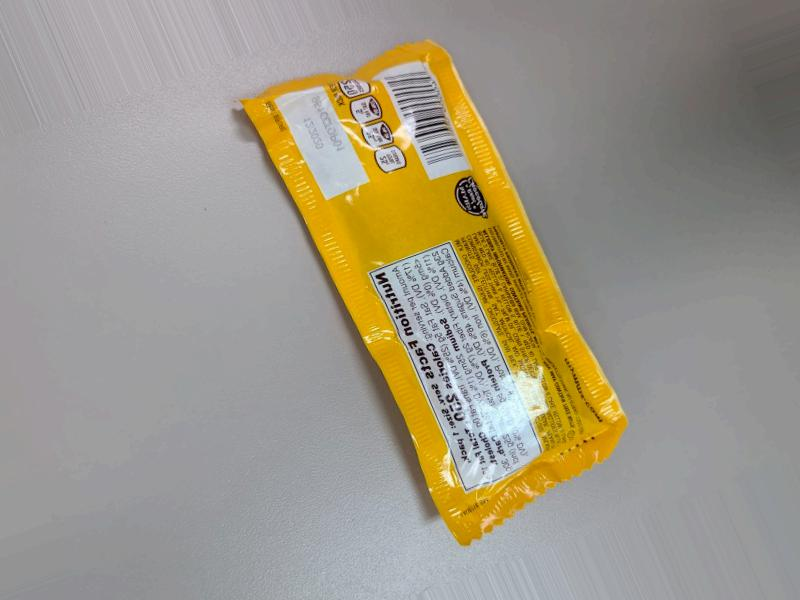m&m: (273, 56, 664, 584)
